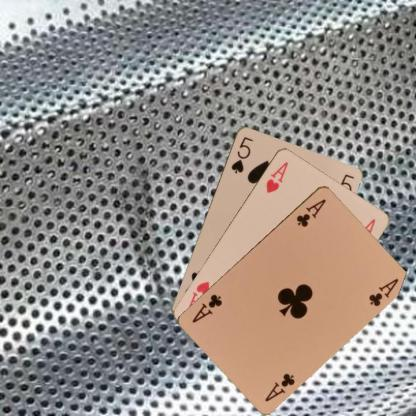5s: (228, 134, 255, 174)
Ac: (262, 370, 296, 402), (294, 196, 327, 228)
Ah: (263, 158, 289, 194)
